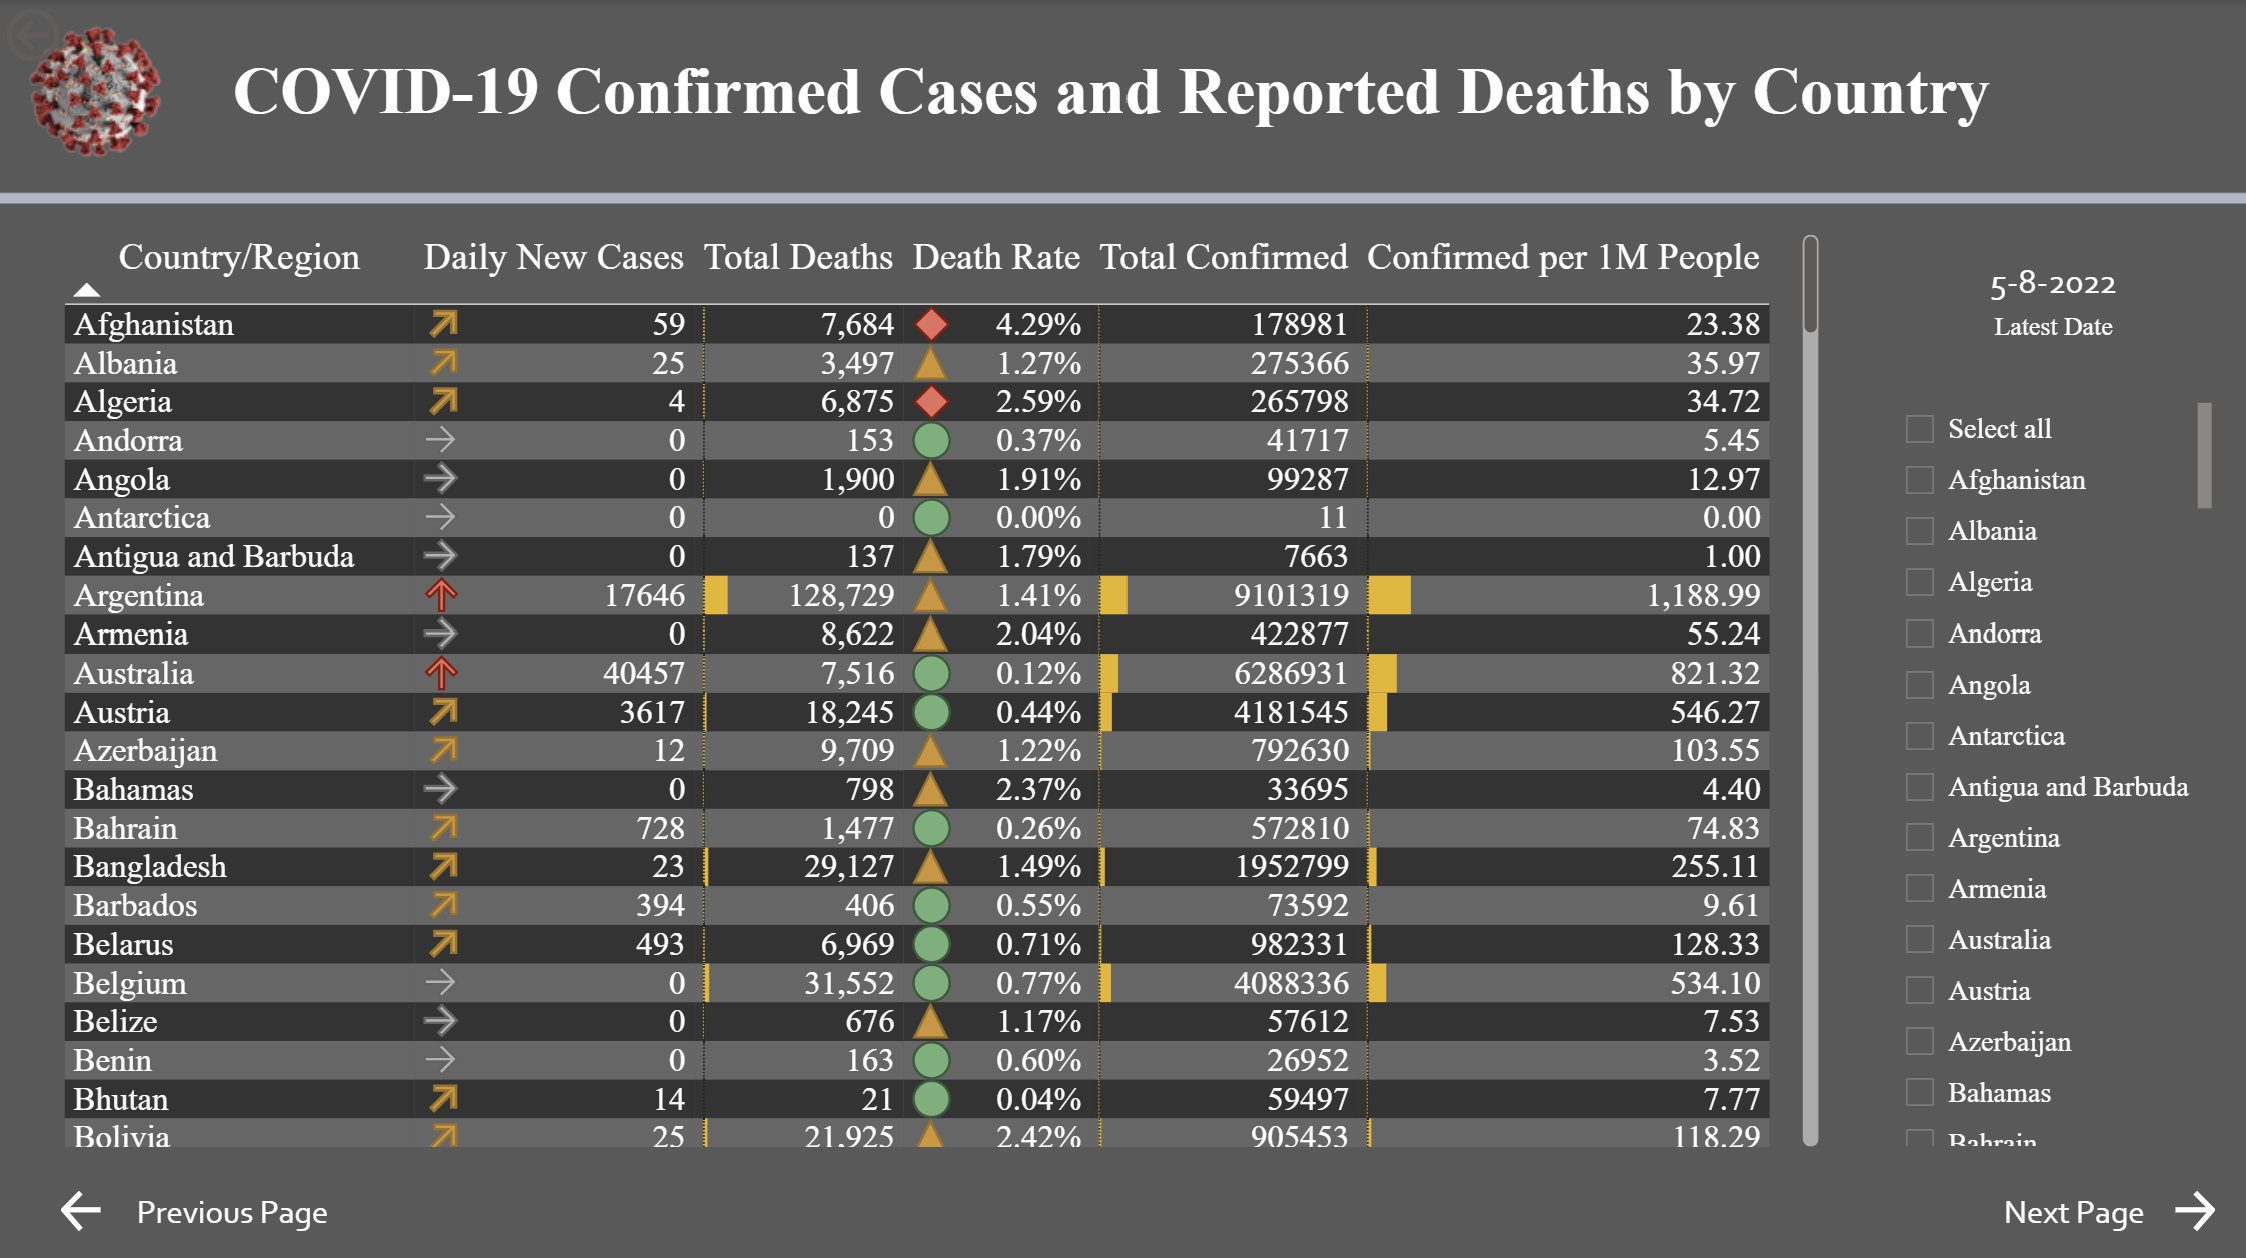

The dashboard page shown, as its layout file describes it:
{"tool":"powerbi","page":{"name":"Confirmed Cases and Deaths by Country","canvas":[1280,720],"ordinal":1},"visuals":[{"type":"textbox","box":[128,25,1040,64],"z":0},{"type":"tableEx","fields":{"Values":["COVID-19 Cases.Country/Region","COVID-19 Measures.Daily New Cases","COVID-19 Measures.Total Deaths","COVID-19 Measures.Death Rate","COVID-19 Measures.Total Confirmed","COVID-19 Measures.Confirmed per 1M People"]},"box":[32,128,1008,528],"z":1000},{"type":"actionButton","box":[0,0,100,40],"z":2000},{"type":"slicer","fields":{"Values":["COVID-19 Cases.Country/Region"]},"box":[1072,224,192,432],"z":3000},{"type":"actionButton","box":[1136,672,128,32],"z":4000},{"type":"actionButton","box":[32,672,160,32],"z":5000},{"type":"card","title":"Latest Data","fields":{"Values":["COVID-19 Cases.Date"]},"box":[1104,128,128,80],"z":6000}]}

Visuals, with their boxes in screenshot pixels (x1, y1, x2, y2), scaled from the page's 1280x720 canvas onto the 2246x1258 screenshot:
textbox: l=225, t=44, r=2049, b=156
tableEx - COVID-19 Cases.Country/Region x COVID-19 Measures.Daily New Cases: l=56, t=224, r=1825, b=1146
actionButton: l=0, t=0, r=175, b=70
slicer - COVID-19 Cases.Country/Region: l=1881, t=391, r=2218, b=1146
actionButton: l=1993, t=1174, r=2218, b=1230
actionButton: l=56, t=1174, r=337, b=1230
"Latest Data" card: l=1937, t=224, r=2162, b=363
